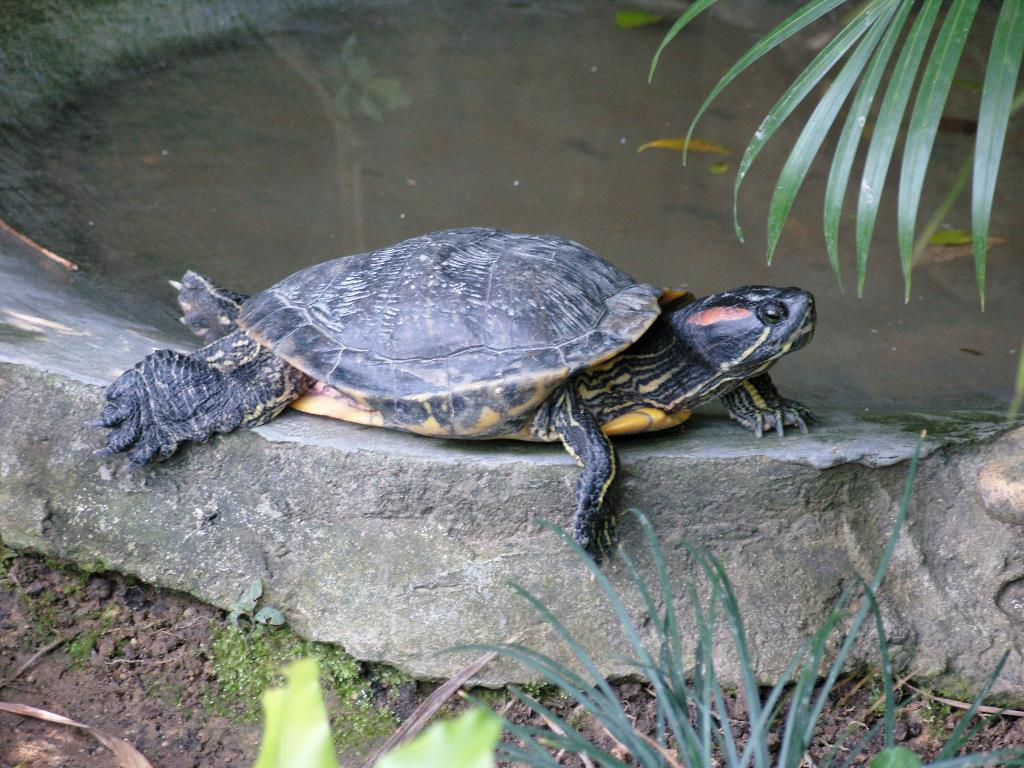Sea turtles: (83, 220, 822, 571)
